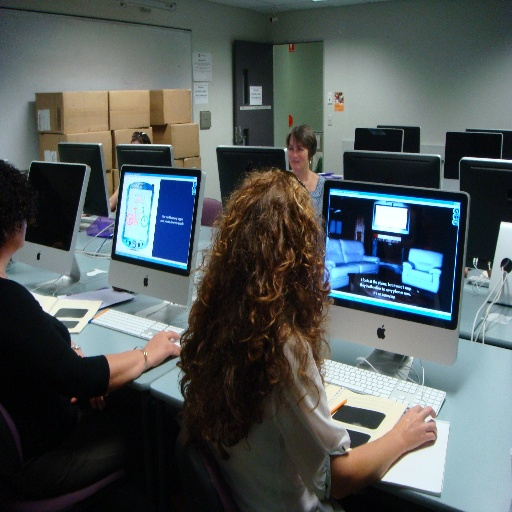hand: (388, 414, 442, 473), (69, 350, 107, 410), (142, 330, 184, 366)
